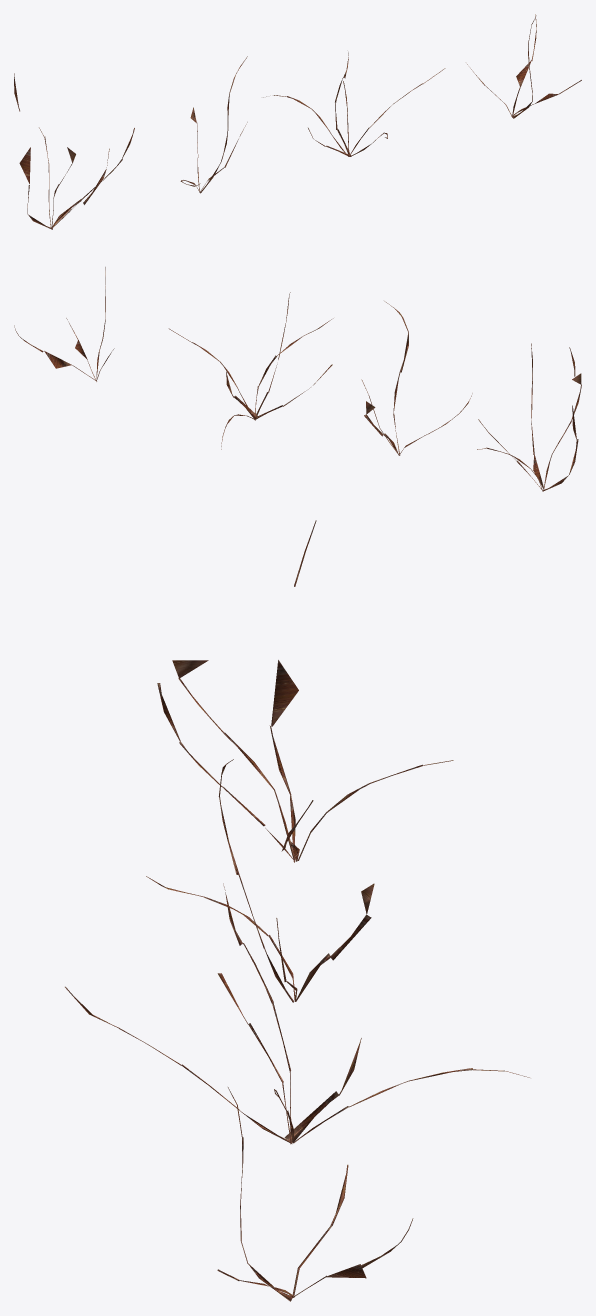
The model's file is shrub_02_lod2.gltf.
3 views of the same model, one above another, from view 1: azimuth 30°, elevation 25°; view 2: azimuth 150°, elevation 25°; view 3: azimuth 270°, elevation 25° (orthographic). The views are drawn at different scales.
Parts seen in each view (by area): view 1: shrub_02_lod2; view 2: shrub_02_lod2; view 3: shrub_02_lod2.
Boxes of the visible parts, bbox=[...] form: shrub_02_lod2: bbox=[14, 14, 581, 229]; shrub_02_lod2: bbox=[14, 267, 581, 491]; shrub_02_lod2: bbox=[65, 520, 529, 1301].
Size of the model in its own units: 5.74 by 1.61 by 2.17.
Materials: 1 (1 with a texture image).
